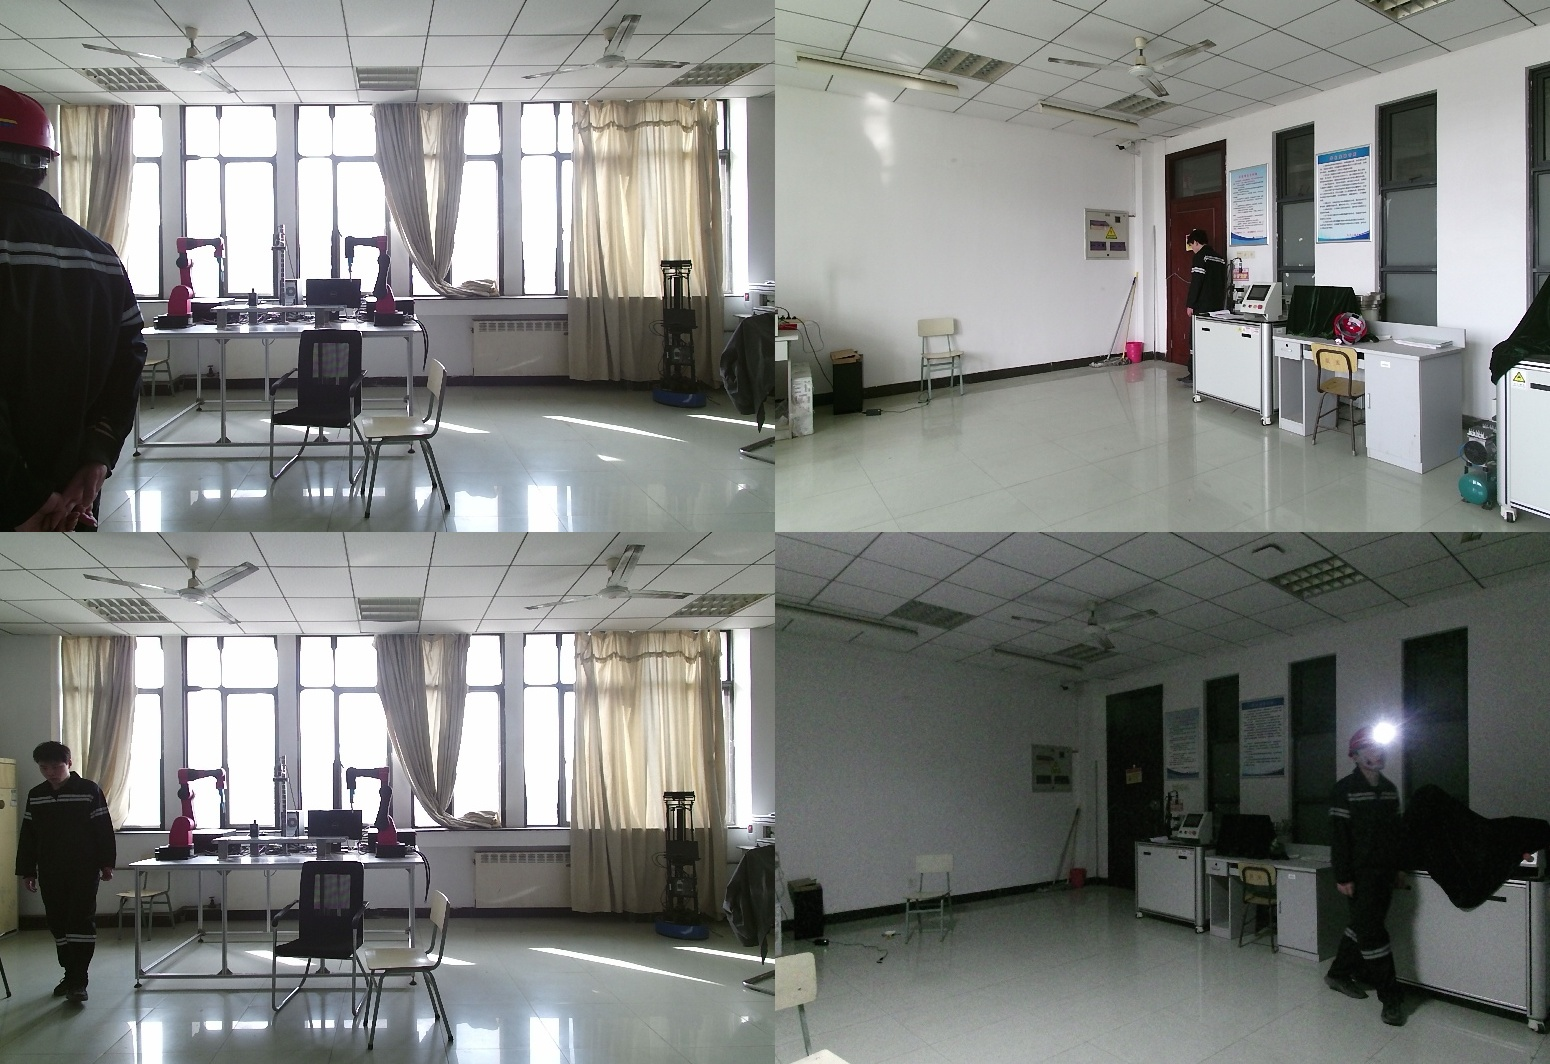person: (1, 87, 148, 532), (1313, 728, 1413, 1026), (16, 741, 120, 997), (1184, 232, 1230, 387)
